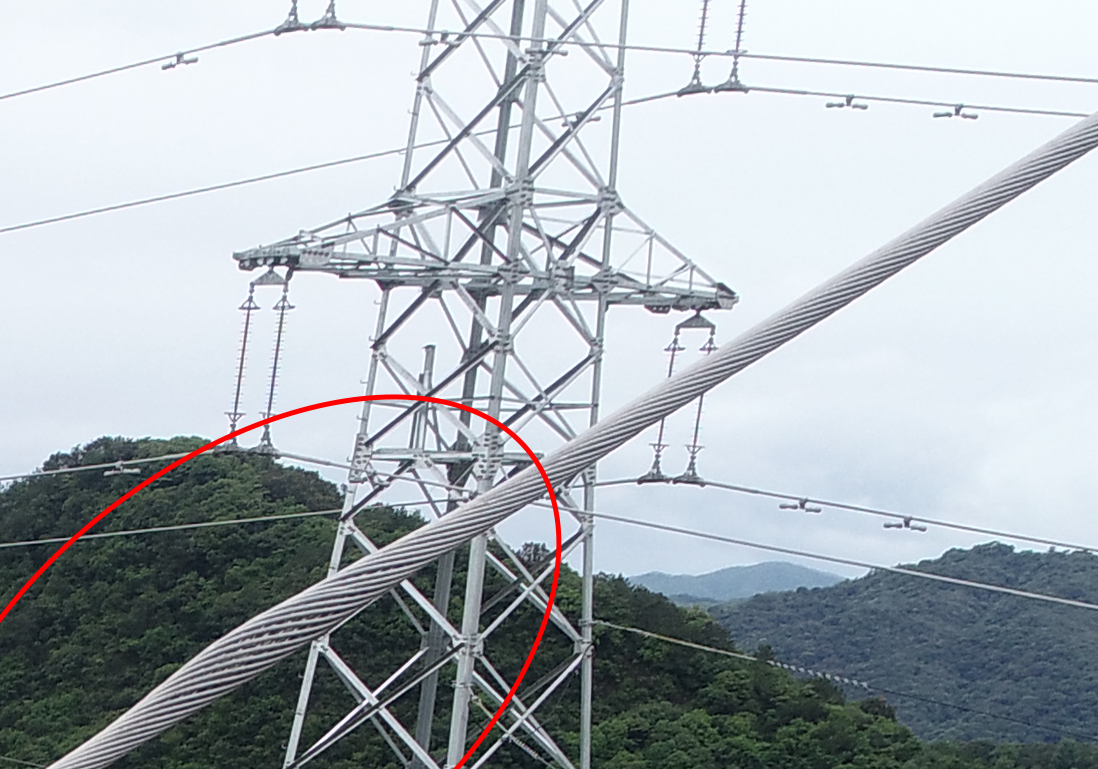damper: (930, 100, 981, 122), (776, 494, 823, 516), (883, 511, 930, 533), (823, 91, 870, 111), (525, 36, 570, 56), (159, 49, 201, 69), (99, 458, 141, 478), (420, 27, 460, 47)
